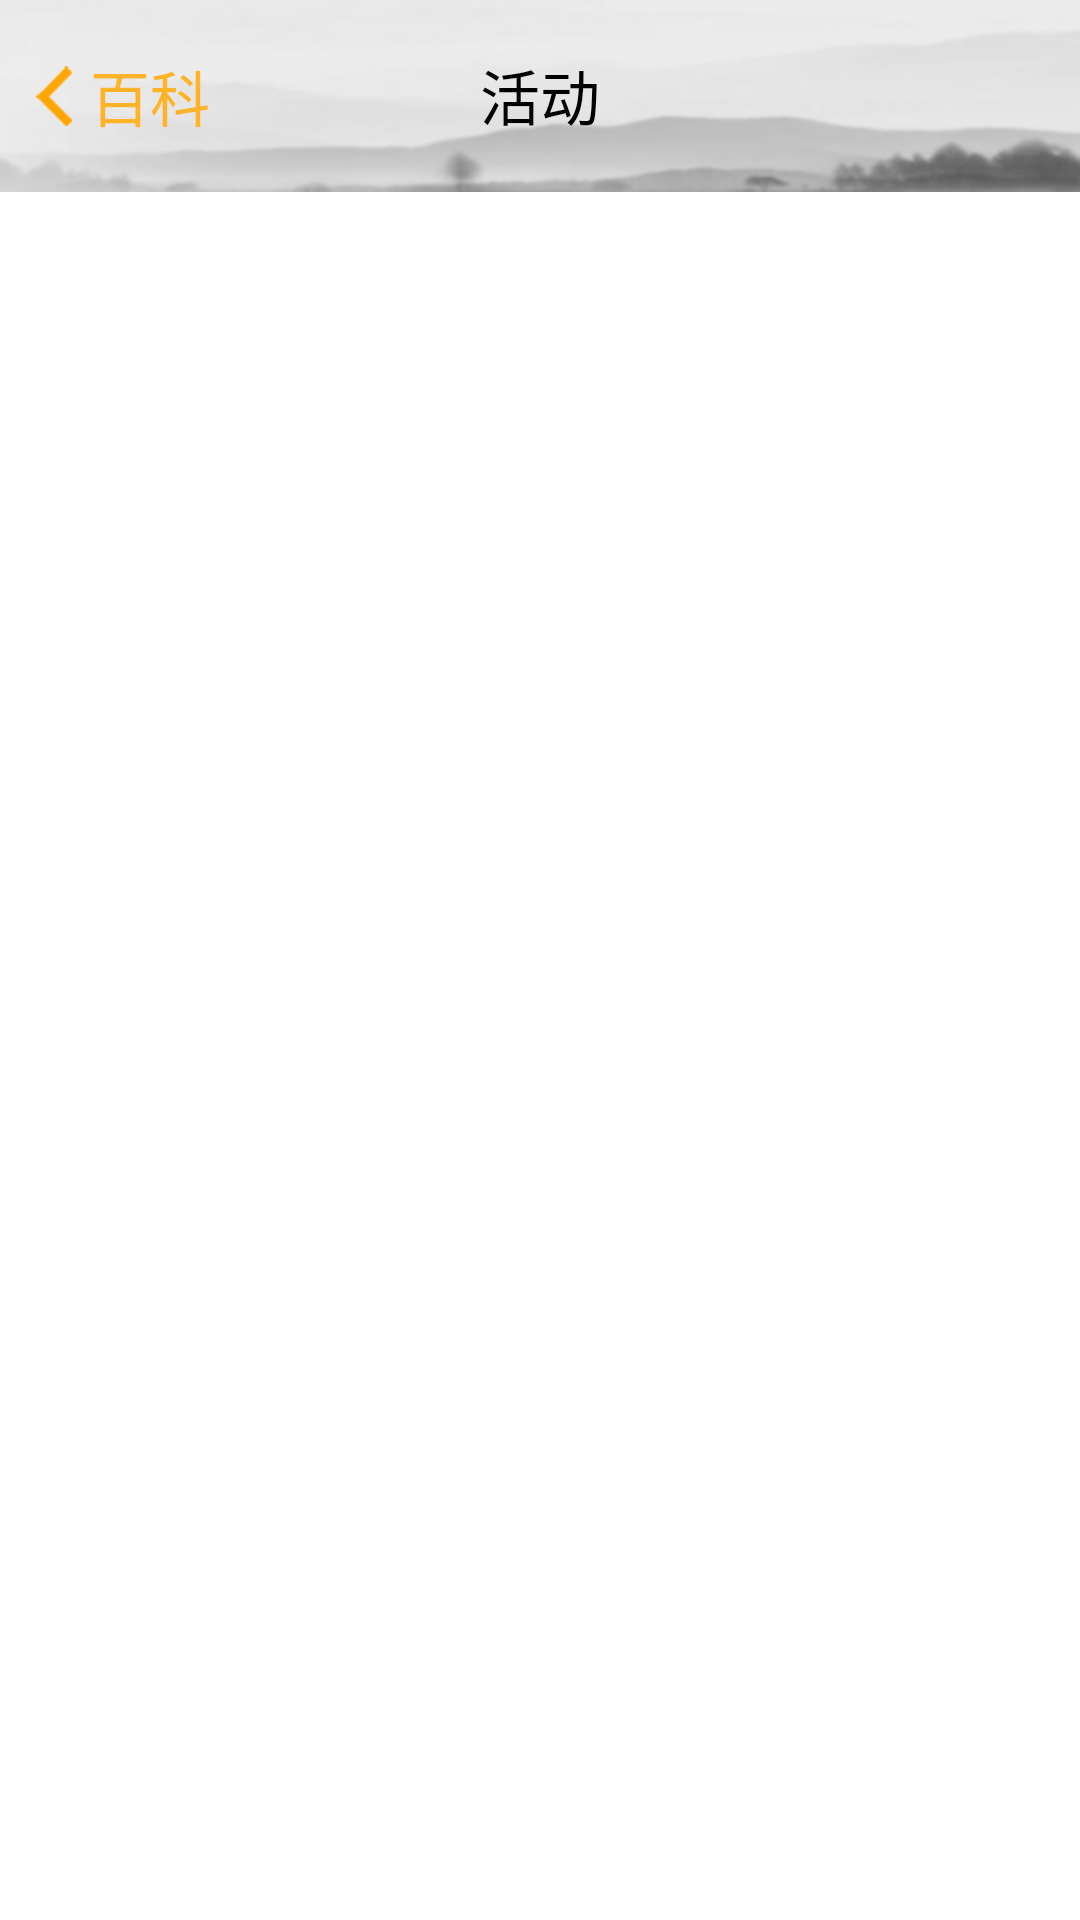

Icons on this 1080px×1920px Android screen, each with its box as (x1, y1, x2, y2):
back: (36, 66, 72, 126)
